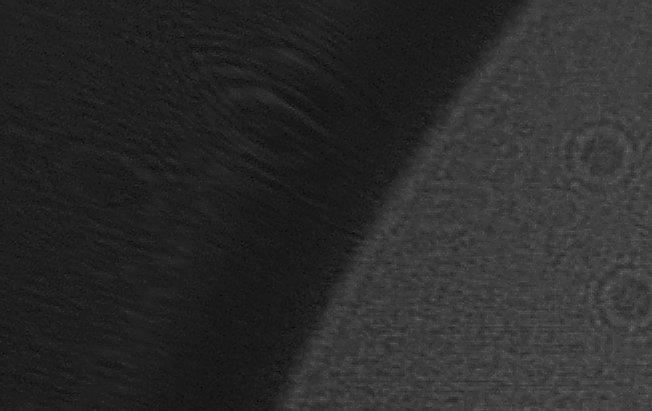bead: (547, 117, 641, 198), (578, 249, 652, 347)
